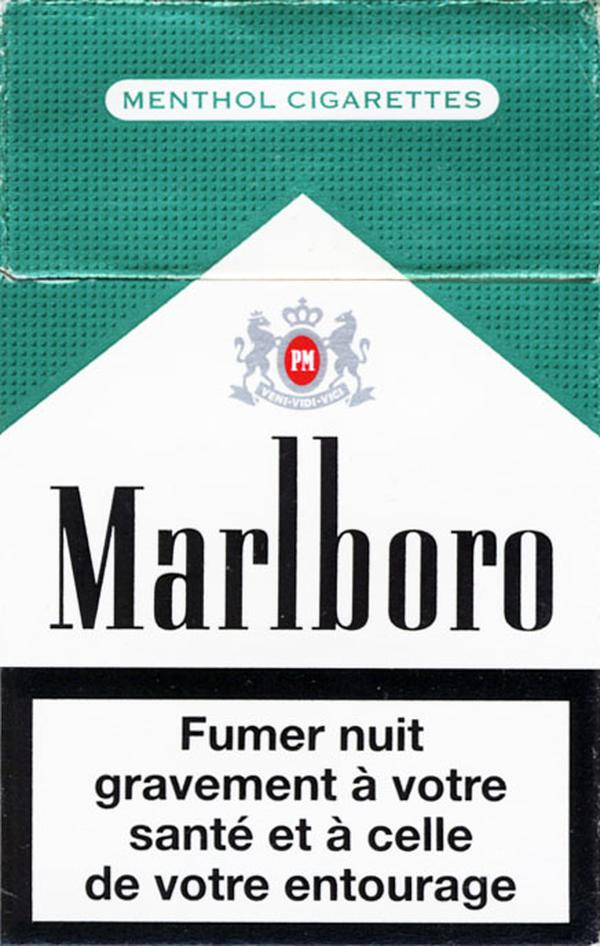marlboro_mentol: (3, 6, 598, 945)
